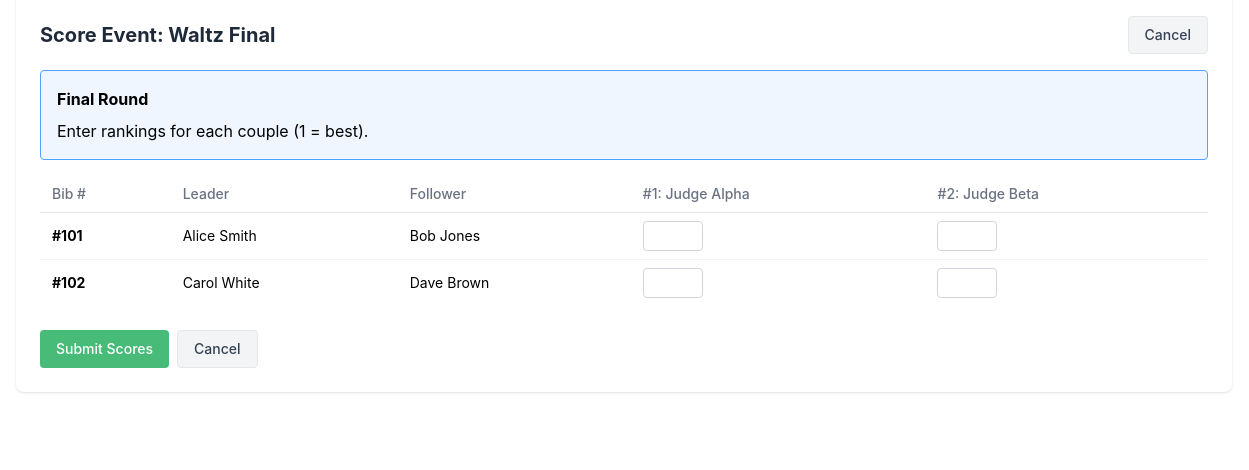
Scenario: ScoreEventPage › should show an error message when score submission fails
Click the button "Submit Scores" at (105, 349), box left=40, top=330, right=169, bottom=368
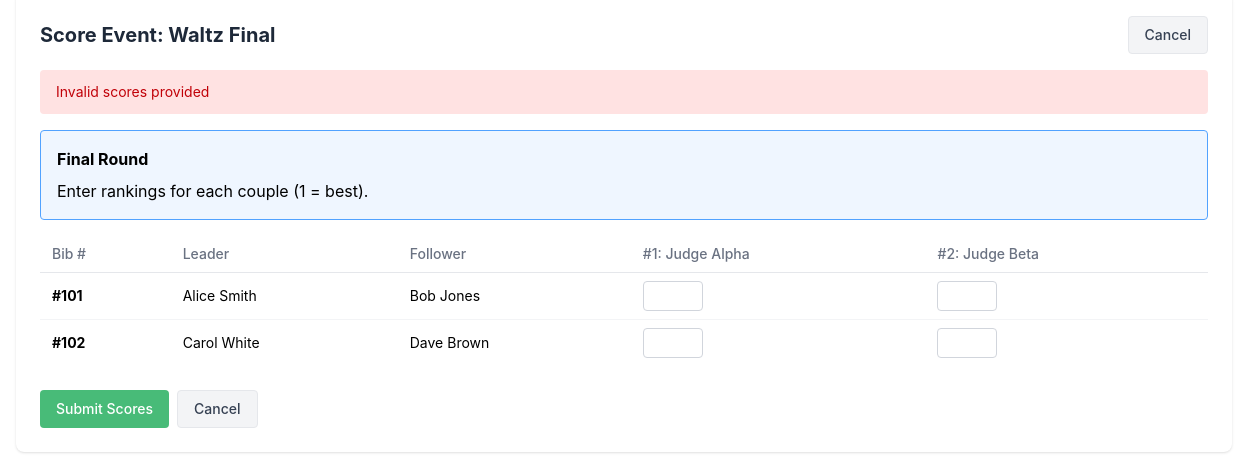
expect the text "Invalid scores provided" is shown: met, box left=40, top=70, right=1208, bottom=114
